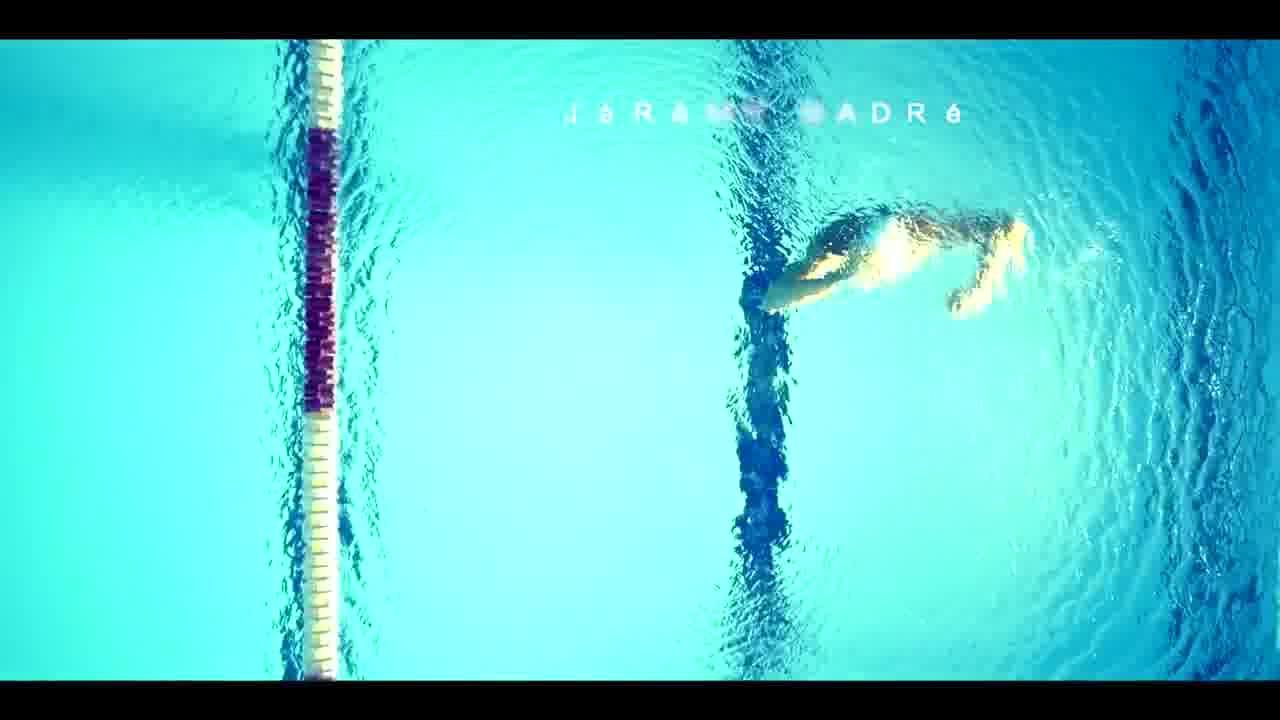swimmer: (734, 180, 1032, 335)
